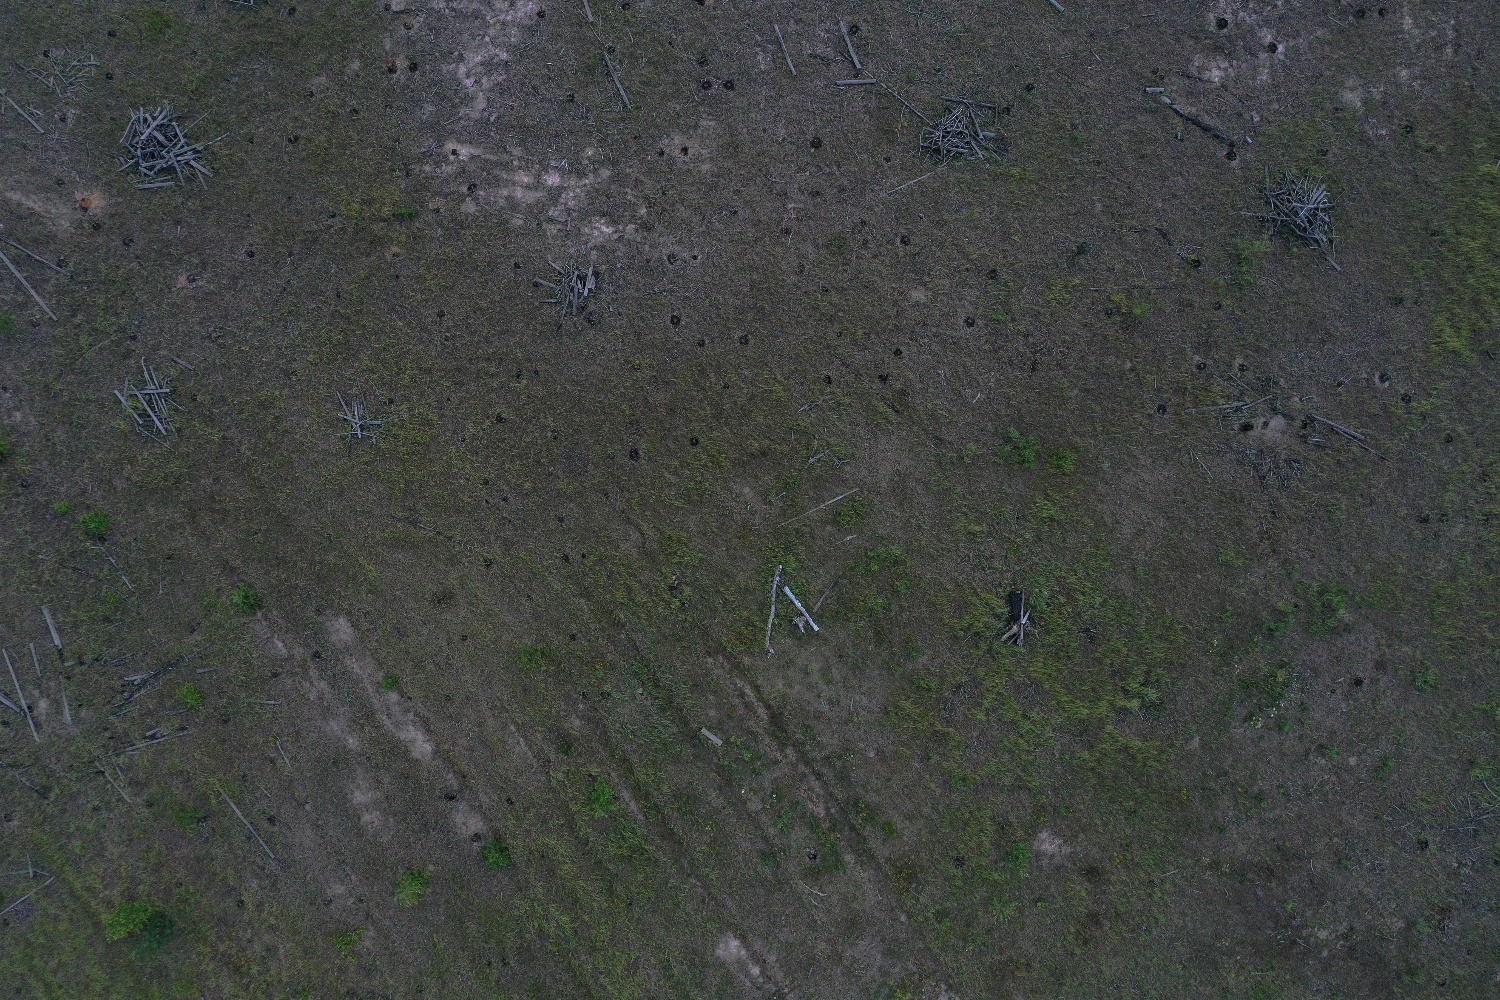branches: (1246, 169, 1340, 260), (119, 105, 218, 191), (113, 356, 186, 440), (916, 94, 1002, 165), (333, 390, 393, 446), (547, 260, 600, 312)
